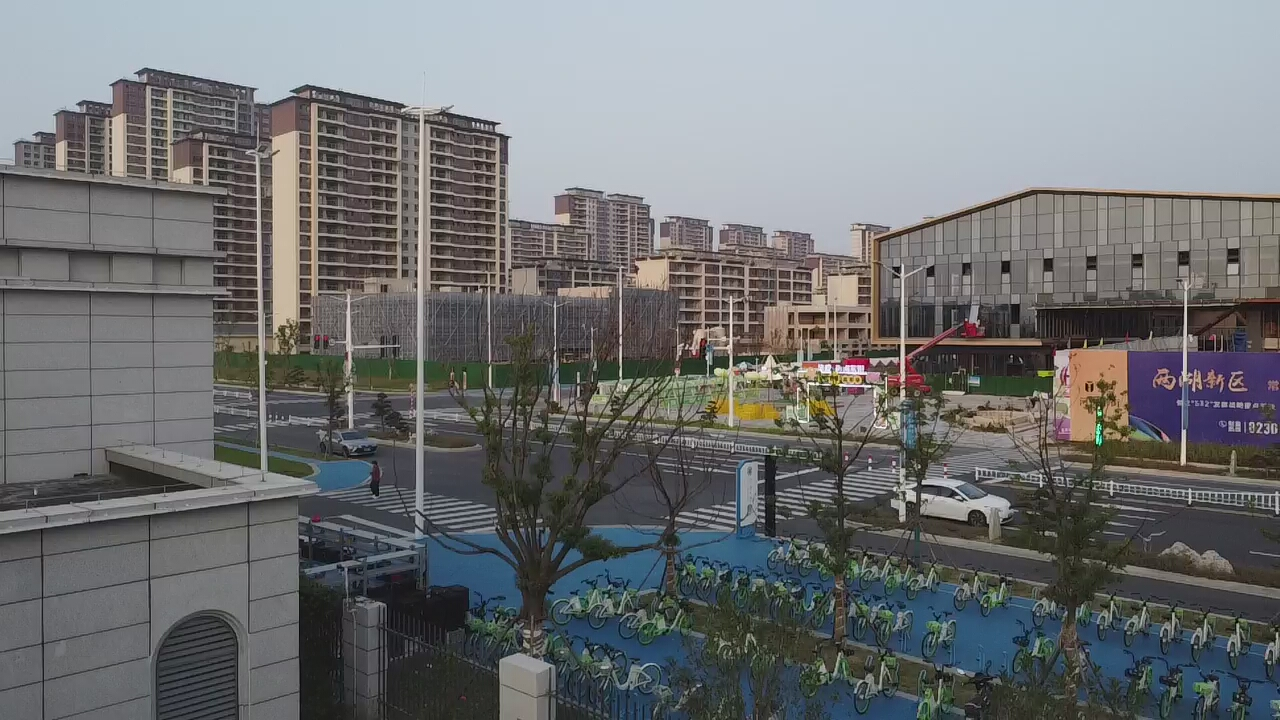car: (887, 471, 1009, 528), (319, 430, 379, 455)
person: (361, 454, 381, 499)
